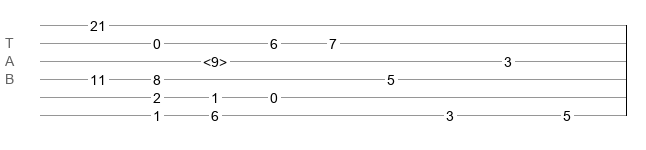0: (153, 36, 161, 46), (270, 90, 278, 100)
1: (153, 108, 161, 118), (211, 90, 219, 100)
11: (90, 72, 106, 82)
2: (153, 90, 161, 100)
21: (90, 18, 106, 28)
3: (446, 108, 454, 118), (504, 54, 512, 64)
5: (387, 72, 395, 82), (563, 108, 571, 118)
6: (211, 108, 219, 118), (270, 36, 278, 46)
7: (329, 36, 337, 46)
8: (153, 72, 161, 82)
harmonic: (203, 54, 227, 64)
